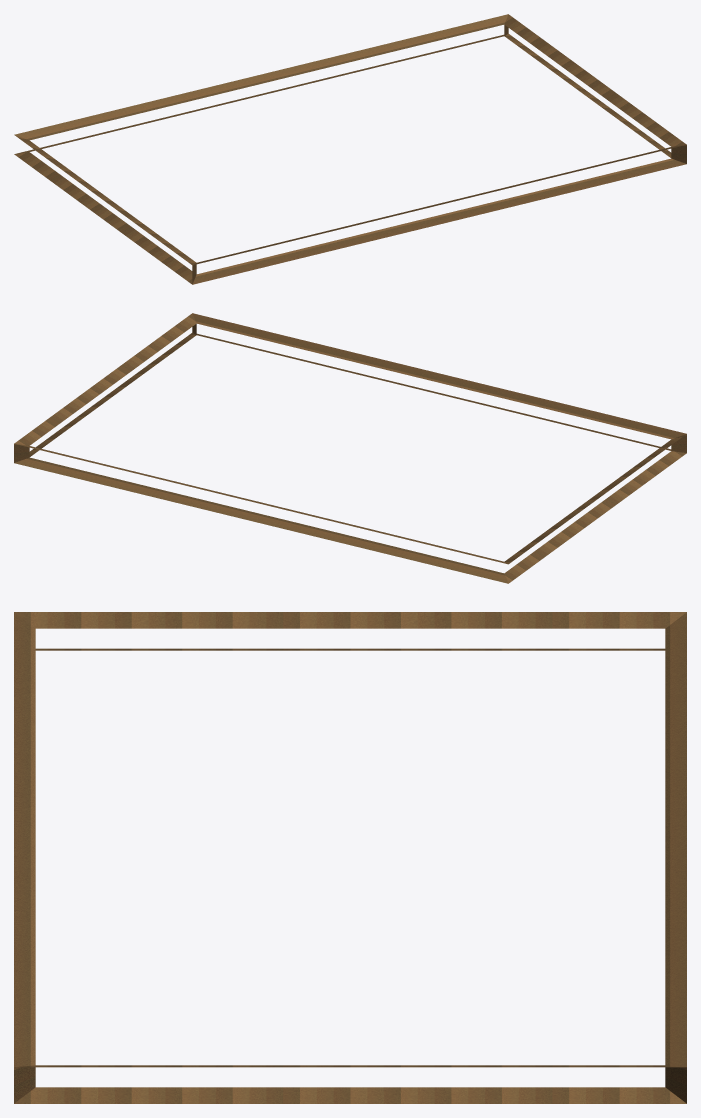
The picture shows the model from 3 angles, top to bottom: view 1: azimuth 30°, elevation 25°; view 2: azimuth 150°, elevation 25°; view 3: azimuth 270°, elevation 25°; orthographic projection. The views are drawn at different scales.
Visible parts, largest first — view 1: door_double_shop_lod0_run001; view 2: door_double_shop_lod0_run001; view 3: door_double_shop_lod0_run001.
Boxes of the visible parts, <box> form: door_double_shop_lod0_run001: <box>14,14,686,284</box>; door_double_shop_lod0_run001: <box>14,313,686,583</box>; door_double_shop_lod0_run001: <box>14,612,686,1103</box>.
Bounding box in the file's own units: 4 × 0.15 × 2.5.
Materials: 1 (1 with a texture image).
